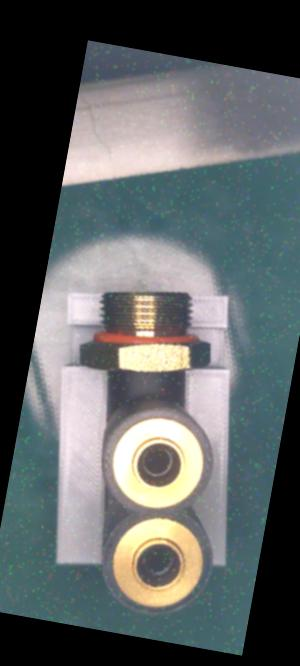craze: (141, 371, 150, 380)
white mark: (139, 380, 148, 391)
